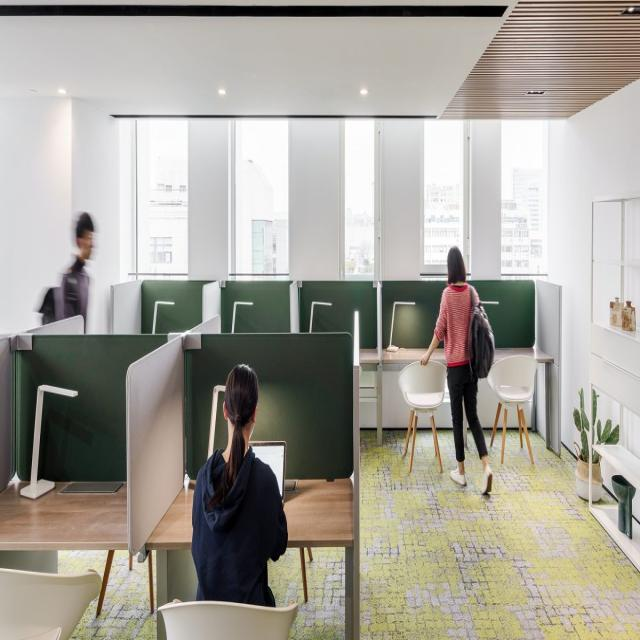bag: (468, 301, 505, 388)
chair: (491, 335, 568, 490), (394, 360, 451, 494)
person: (173, 366, 312, 604), (435, 241, 514, 514)
